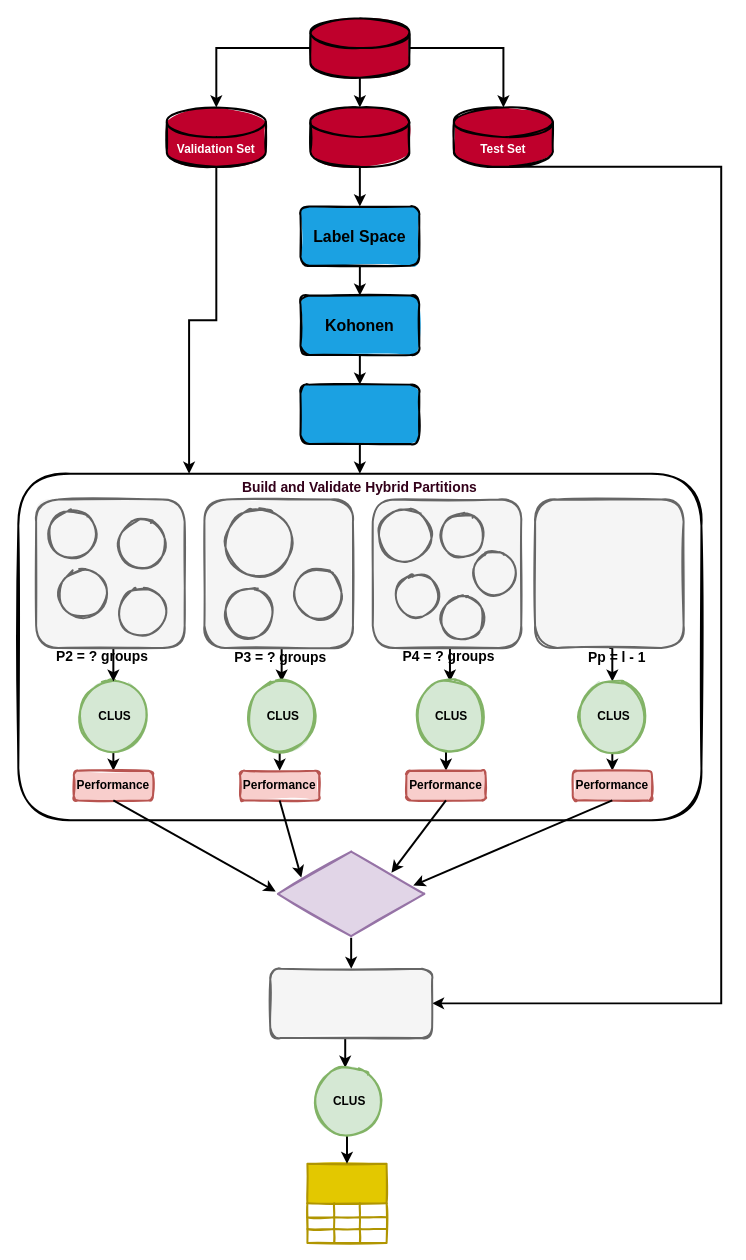
Image size: 746x1260. Some labels were removed from this diagram. Here are the shapes that lost their labels. From the top down, the centre of each, then its label:
pixel 359 47: Dataset
pixel 359 136: Train Set
pixel 359 414: HClust
pixel 350 893: Best Hybrid Partition Macro-F1
pixel 351 1003: Build and Test the best hybrid partition
pixel 346 1202: Results
